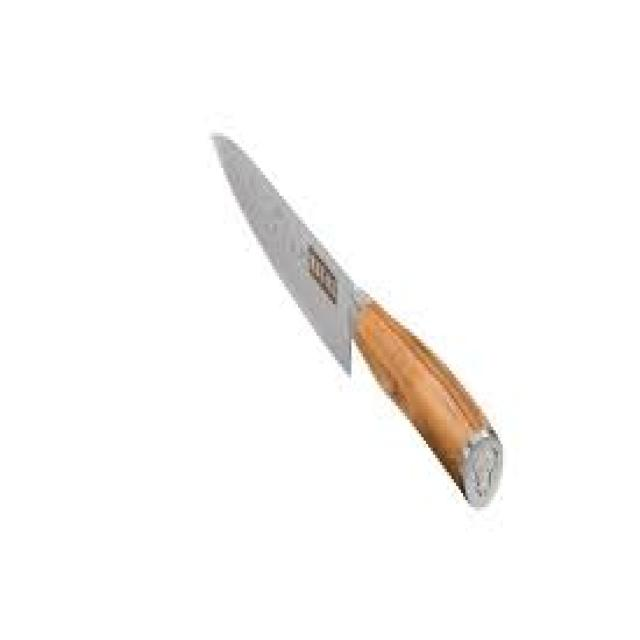knives: (205, 123, 505, 514)
